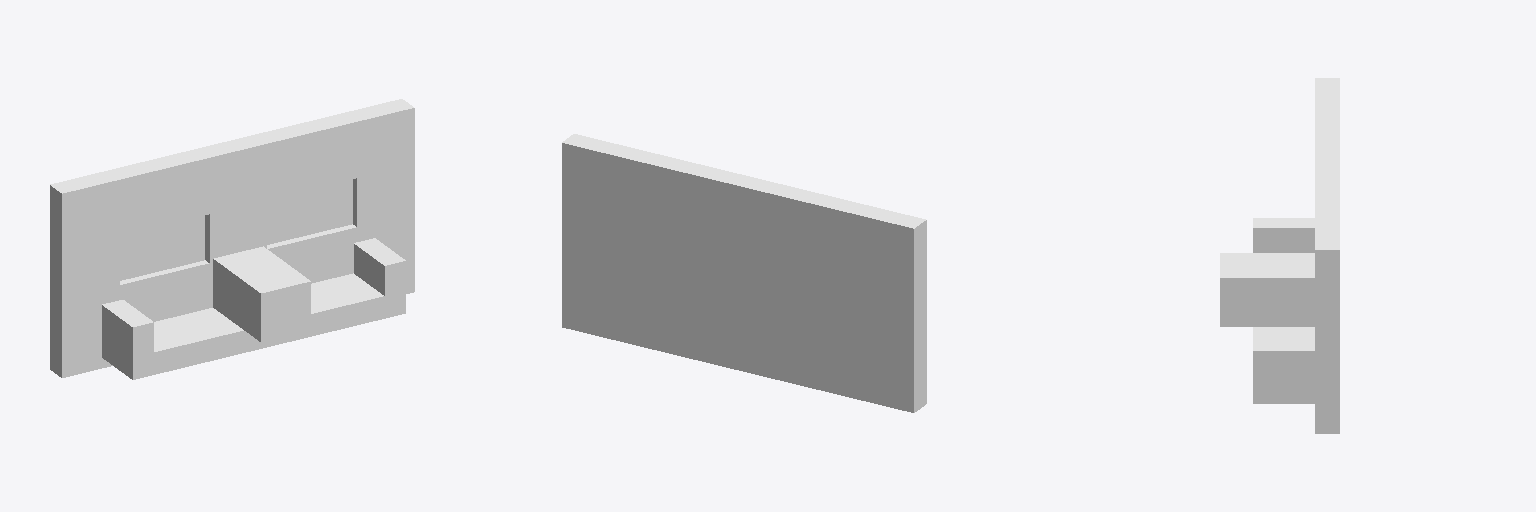
The model's file is CapitanoMask.obj.
3 views of the same model, side by side, from view 1: azimuth 30°, elevation 25°; view 2: azimuth 150°, elevation 25°; view 3: azimuth 270°, elevation 25° (orthographic).
Parts seen in each view (by area): view 1: object 1; view 2: object 1; view 3: object 1.
Boxes of the visible parts, box(x1,y1,x2,y2) form: object 1: box(50, 99, 414, 379); object 1: box(562, 134, 926, 412); object 1: box(1220, 78, 1339, 433).
Size of the model in its own units: 9.8 by 4.9 by 2.9.